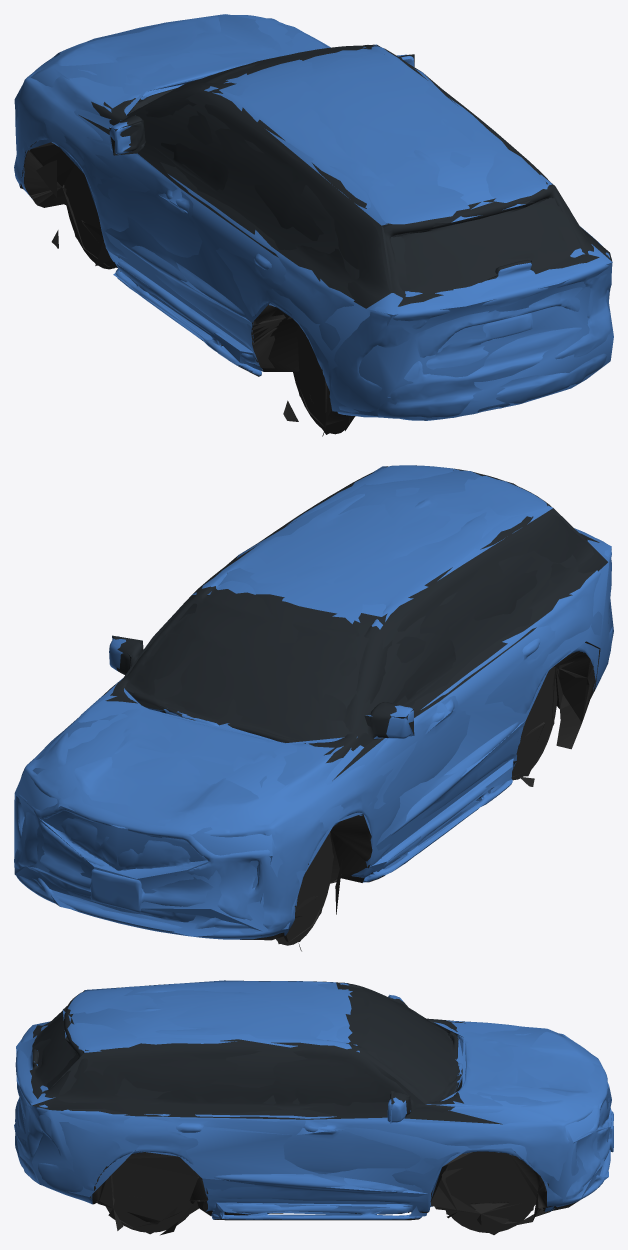
File: acura-mdx.glb
3 views of the same model, one above another, from view 1: azimuth 30°, elevation 25°; view 2: azimuth 150°, elevation 25°; view 3: azimuth 270°, elevation 25° (orthographic). The views are drawn at different scales.
Parts seen in each view (by area): view 1: body, far; view 2: body, far; view 3: body, far.
Boxes of the visible parts, x1,y1,x2,y2 form: body: [14, 15, 611, 436]; far: [14, 14, 613, 434]; body: [14, 465, 612, 951]; far: [14, 466, 613, 943]; body: [15, 981, 613, 1232]; far: [14, 980, 613, 1235].
Size of the model in its own units: 2.21 by 1.79 by 5.08.
